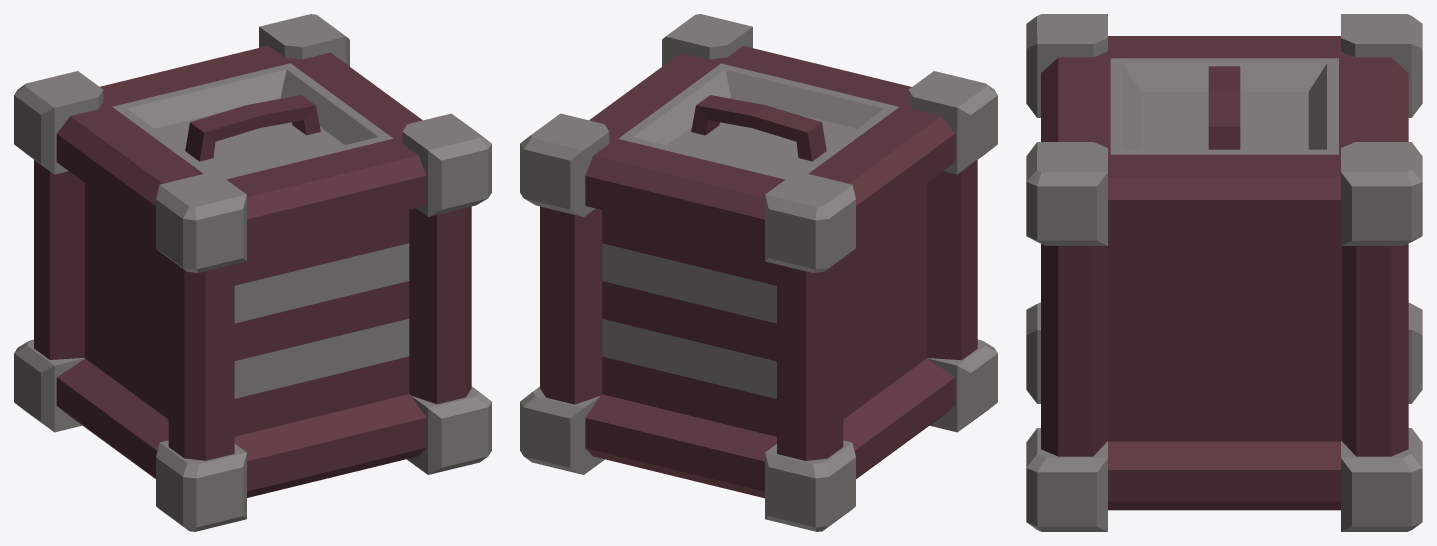
File: scifi-cube.fbx
3 renders of one model, left to right at view 1: azimuth 30°, elevation 25°; view 2: azimuth 150°, elevation 25°; view 3: azimuth 270°, elevation 25°, orthographic. The views are drawn at different scales.
Parts seen in each view (by area): view 1: scifi-cube; view 2: scifi-cube; view 3: scifi-cube.
Boxes of the visible parts, bbox=[...] form: scifi-cube: bbox=[14, 14, 491, 531]; scifi-cube: bbox=[520, 14, 997, 531]; scifi-cube: bbox=[1026, 14, 1422, 531].
Size of the model in its own units: 0.9955 by 1 by 0.9978.
